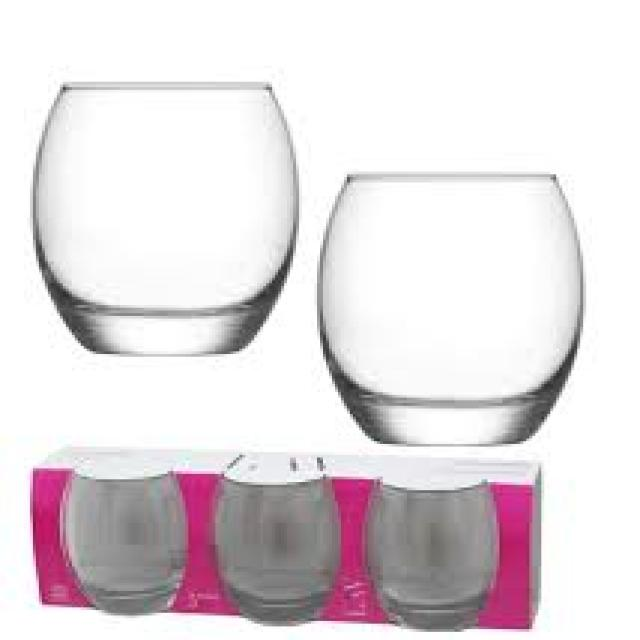Dry: (24, 82, 300, 358), (213, 452, 339, 621)
